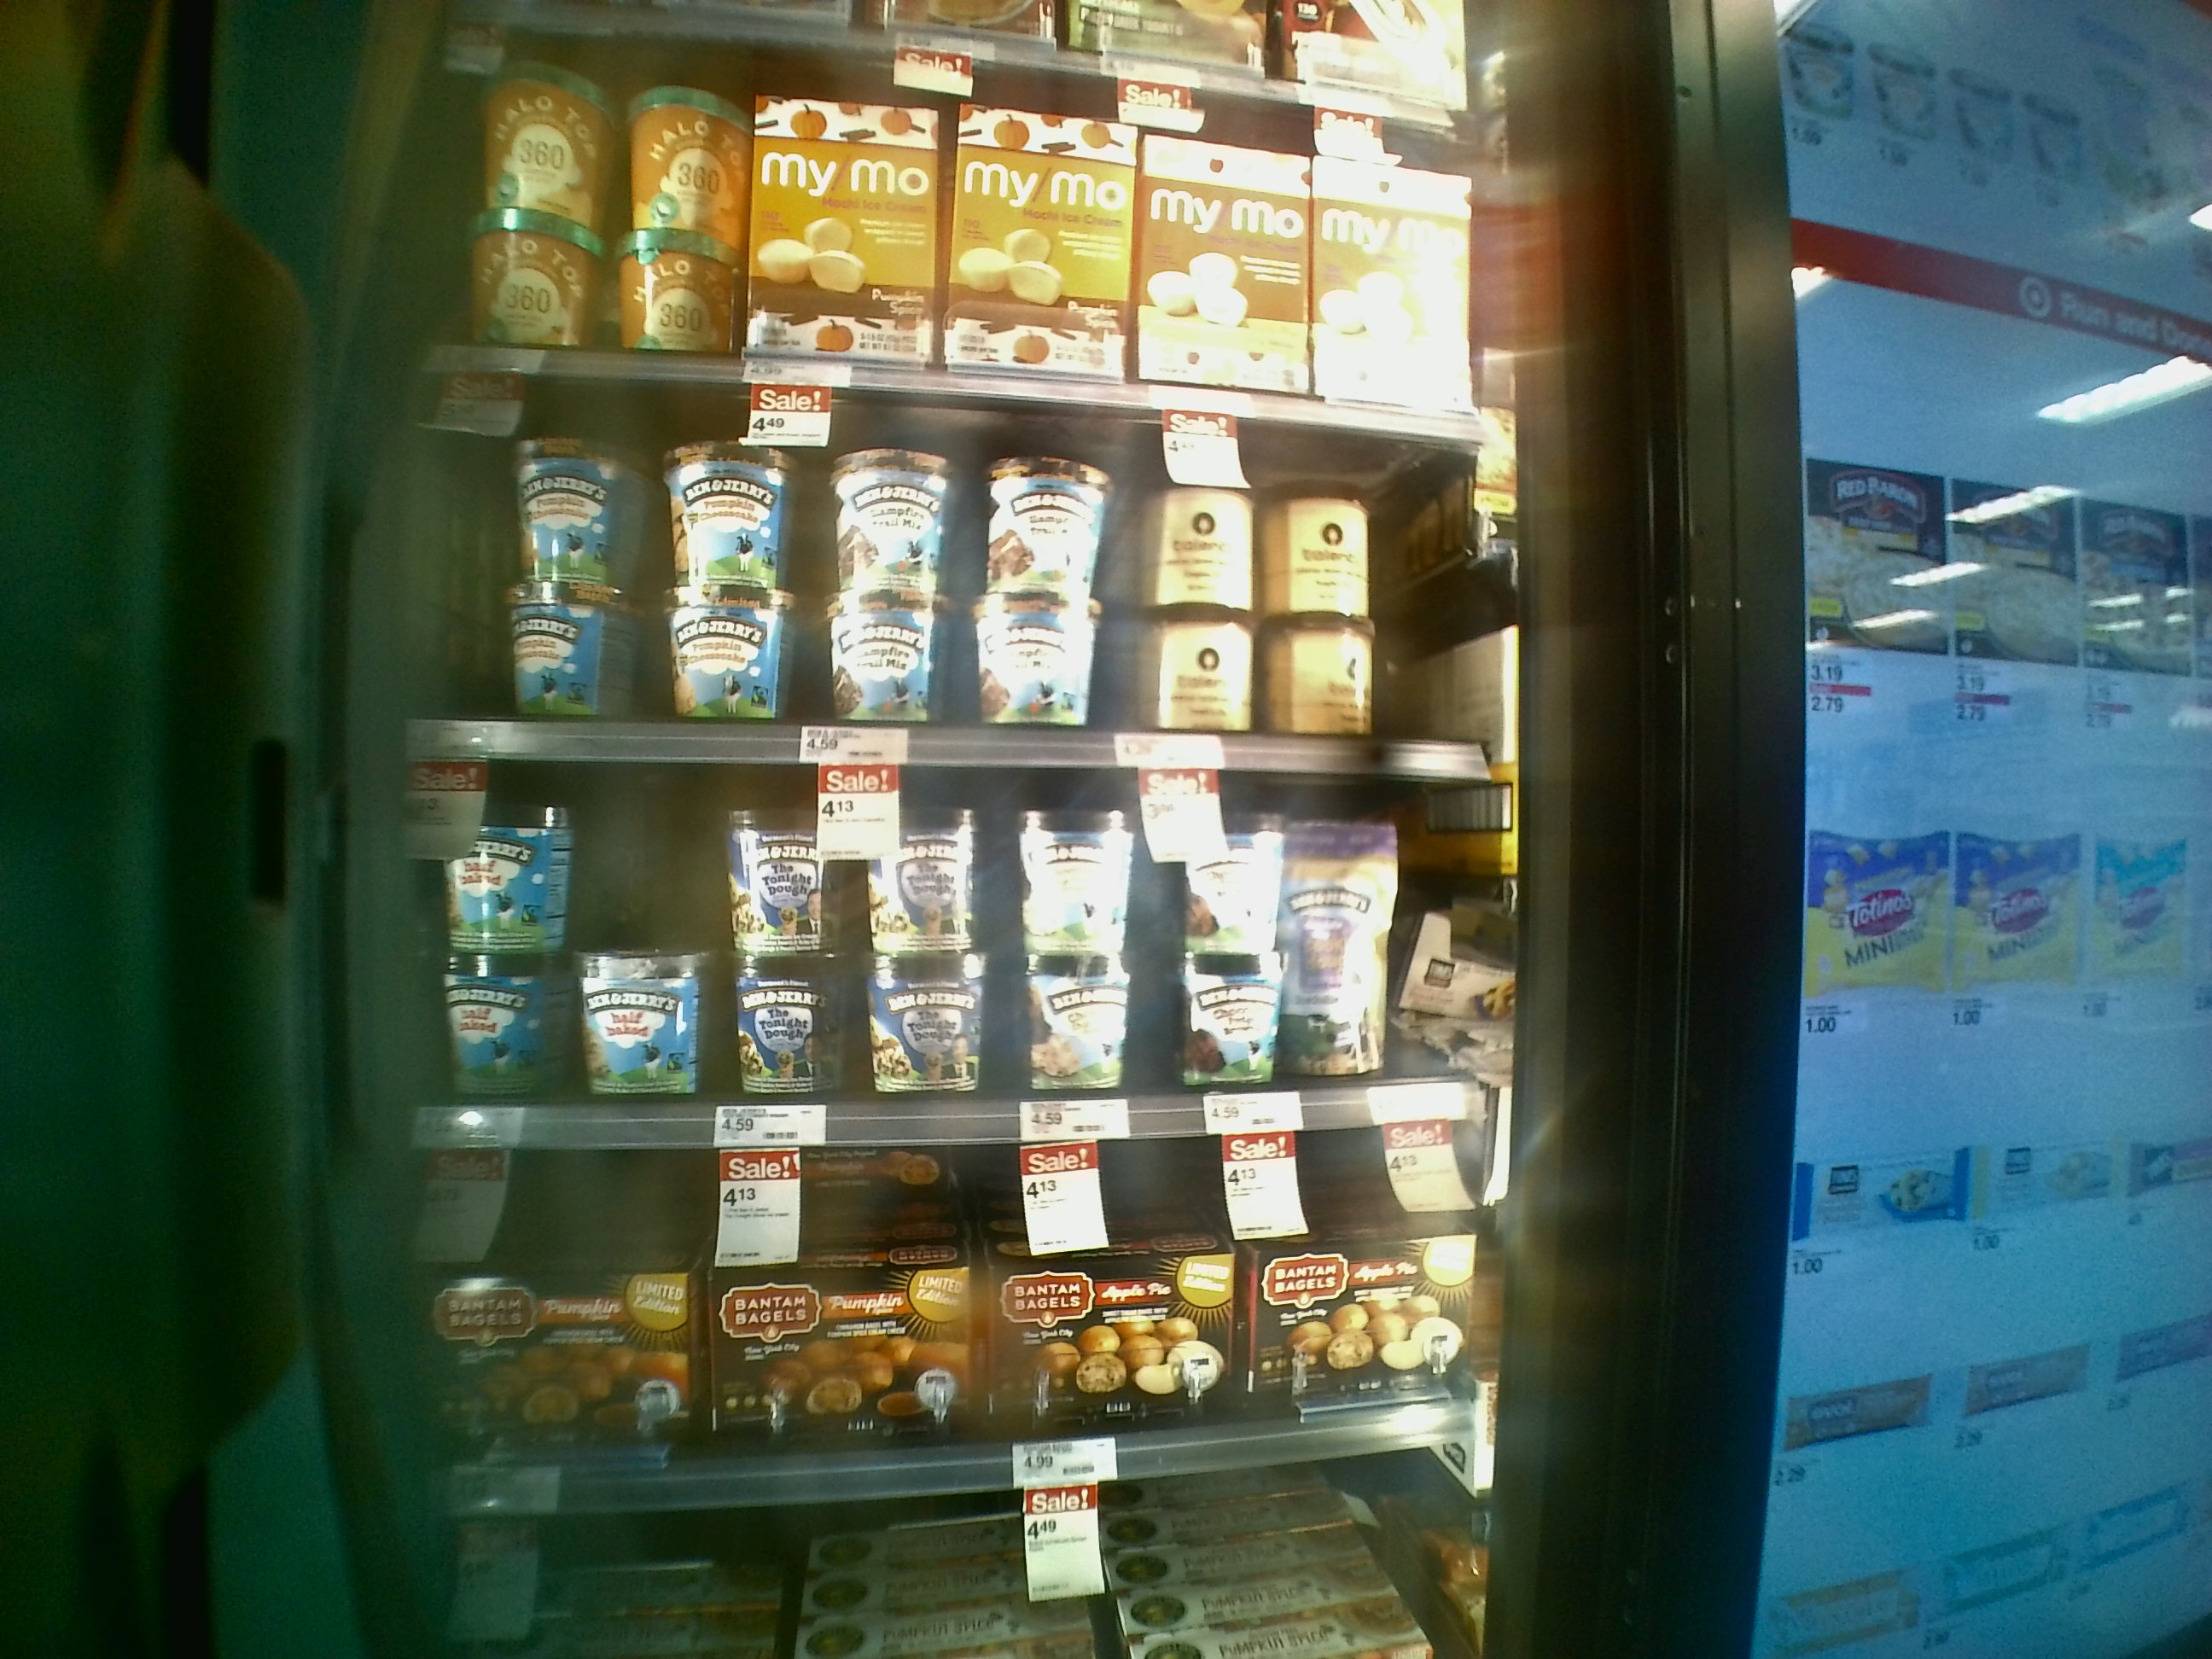shelf: (374, 362, 1519, 781), (347, 765, 1522, 1150), (364, 1133, 1491, 1485)
